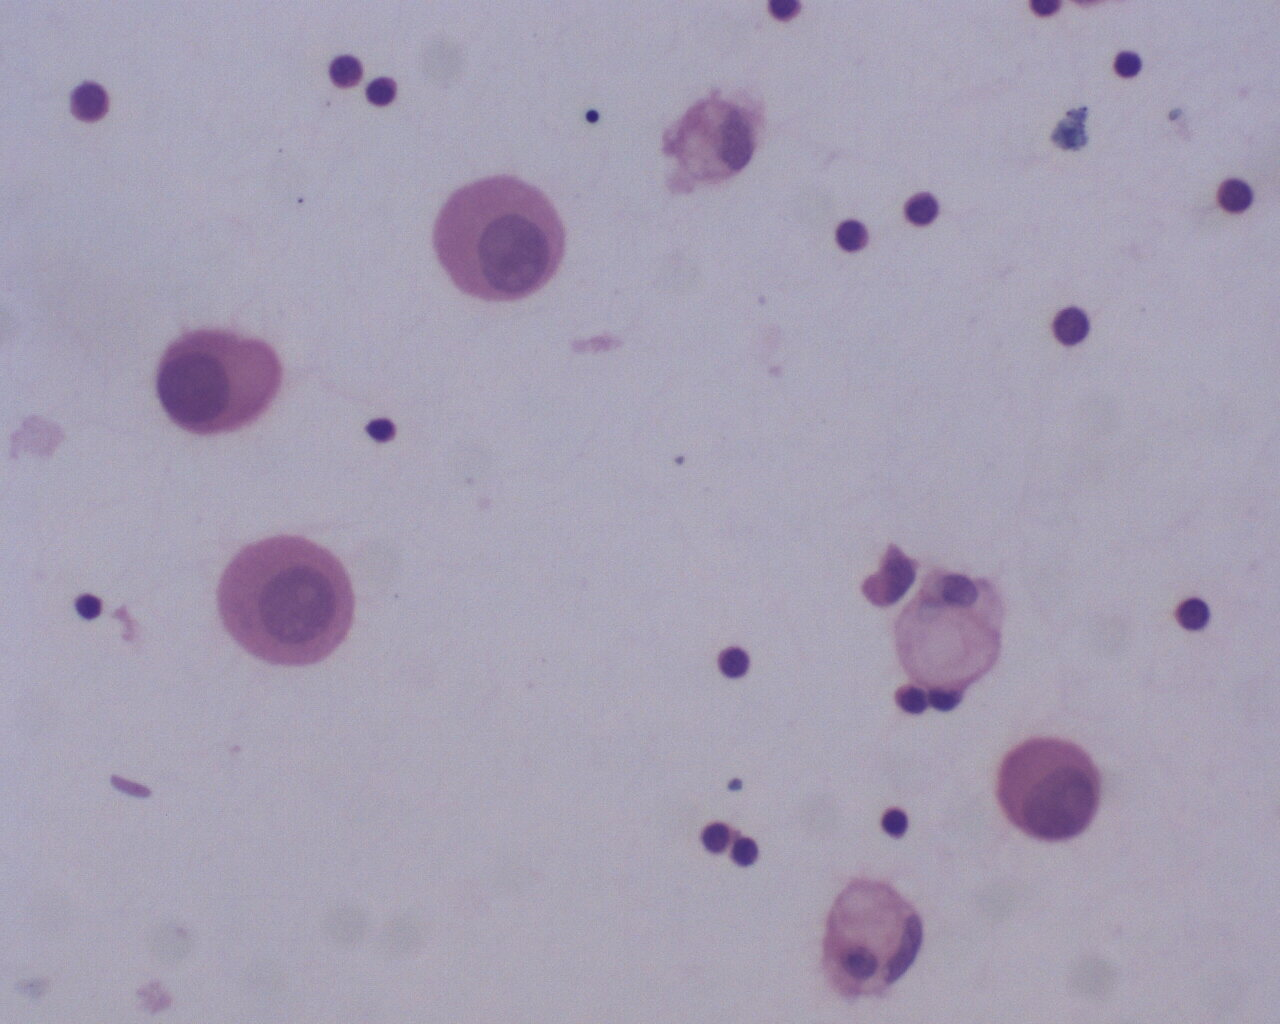ab: (219, 536, 355, 672), (429, 178, 568, 307), (152, 325, 288, 436), (998, 732, 1108, 845)
lymph: (1044, 298, 1098, 351), (67, 75, 116, 123), (712, 639, 754, 686), (326, 50, 368, 95), (833, 211, 872, 258), (1107, 47, 1150, 86), (879, 799, 915, 845)
